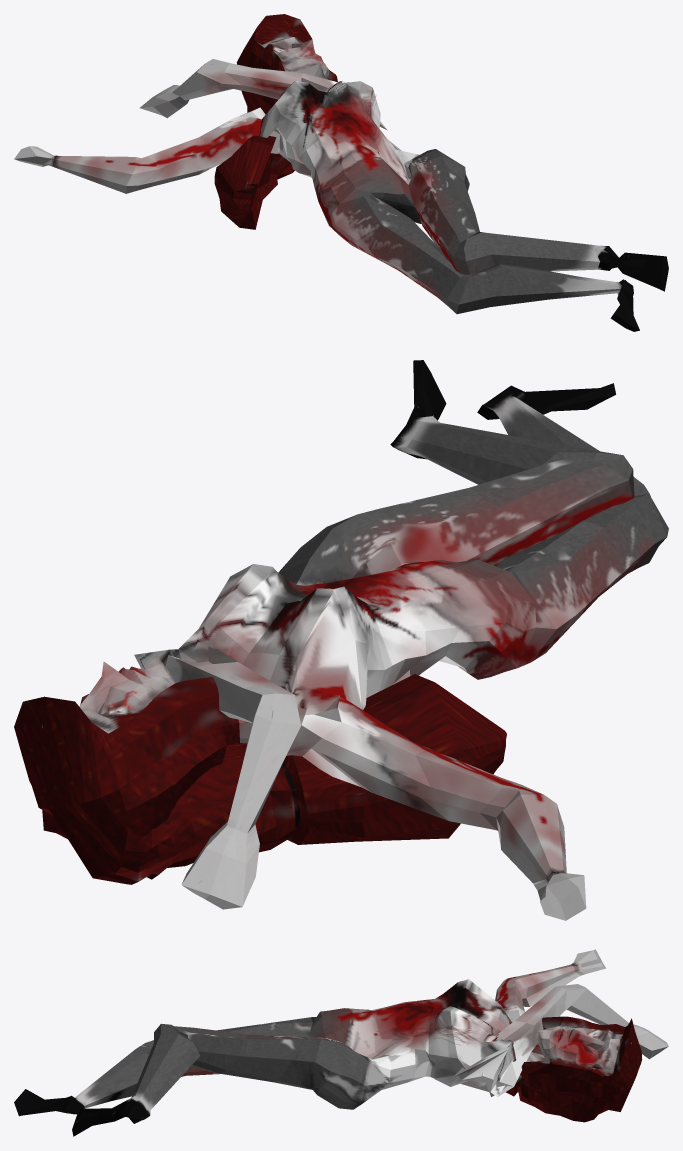
3 renders of one model, top to bottom at view 1: azimuth 30°, elevation 25°; view 2: azimuth 150°, elevation 25°; view 3: azimuth 270°, elevation 25°, orthographic. The views are drawn at different scales.
Parts seen in each view (by area): view 1: FD.002; view 2: FD.002; view 3: FD.002.
Part boxes in pixels (x1,y1,x2,y2): FD.002: [14, 14, 668, 331]; FD.002: [14, 360, 668, 920]; FD.002: [14, 949, 668, 1136].
Size of the model in its own units: 111 by 36.86 by 181.
